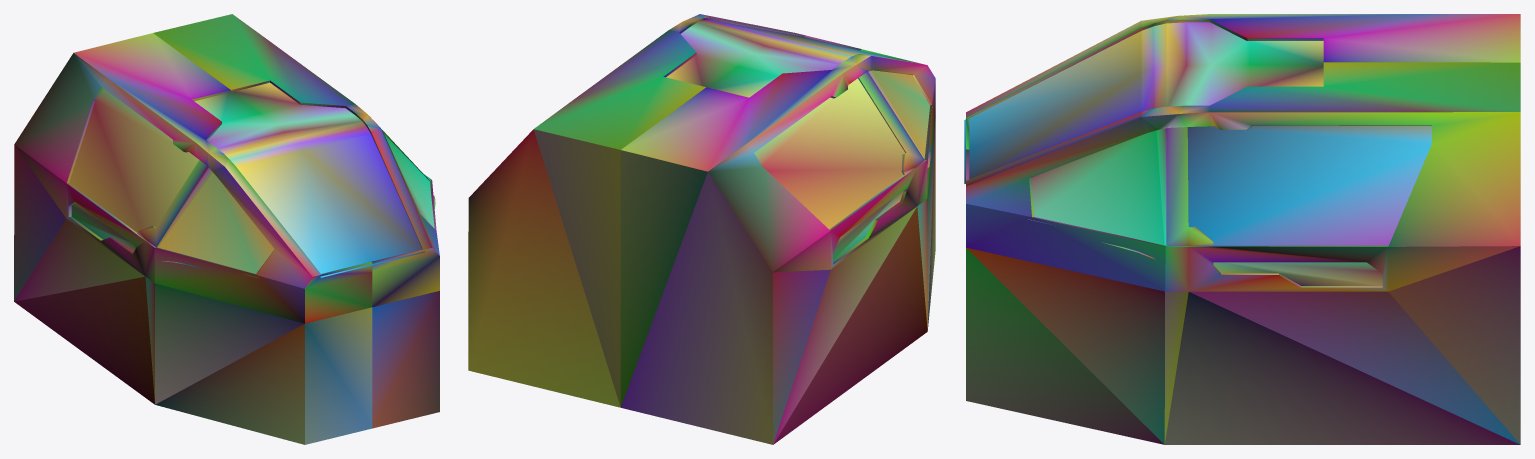
3 renders of one model, left to right at view 1: azimuth 30°, elevation 25°; view 2: azimuth 150°, elevation 25°; view 3: azimuth 270°, elevation 25°, orthographic. The views are drawn at different scales.
Visible parts, largest first — view 1: VA_HeavyFighterCockpit1_Base_metal_0, VA_HeavyFighterCockpit1_Glass_Glass_0; view 2: VA_HeavyFighterCockpit1_Base_metal_0, VA_HeavyFighterCockpit1_Glass_Glass_0; view 3: VA_HeavyFighterCockpit1_Base_metal_0, VA_HeavyFighterCockpit1_Glass_Glass_0.
Part boxes in pixels (x1=…): VA_HeavyFighterCockpit1_Base_metal_0: x1=14, y1=14, x2=439, y2=444; VA_HeavyFighterCockpit1_Glass_Glass_0: x1=69, y1=83, x2=434, y2=277; VA_HeavyFighterCockpit1_Base_metal_0: x1=468, y1=14, x2=935, y2=444; VA_HeavyFighterCockpit1_Glass_Glass_0: x1=666, y1=20, x2=932, y2=260; VA_HeavyFighterCockpit1_Base_metal_0: x1=966, y1=14, x2=1520, y2=444; VA_HeavyFighterCockpit1_Glass_Glass_0: x1=964, y1=22, x2=1431, y2=285.
Bounding box in the file's own units: 243 × 196 × 333.
